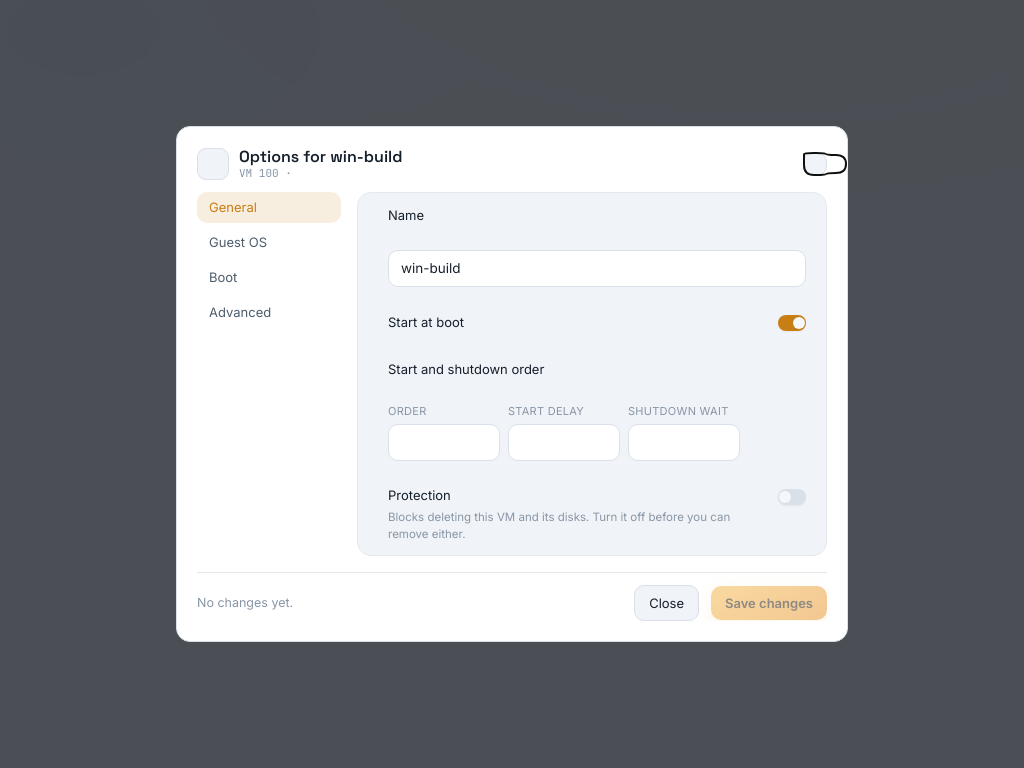
Test: VmOptionsDialog › surfaces the backend detail inline and as a toast
Check: the field labelled "Name" is shown, box [388,250,806,287]
Click the switch named "Protection" in the row of "Protection": point(792, 497) [778,489,806,505]
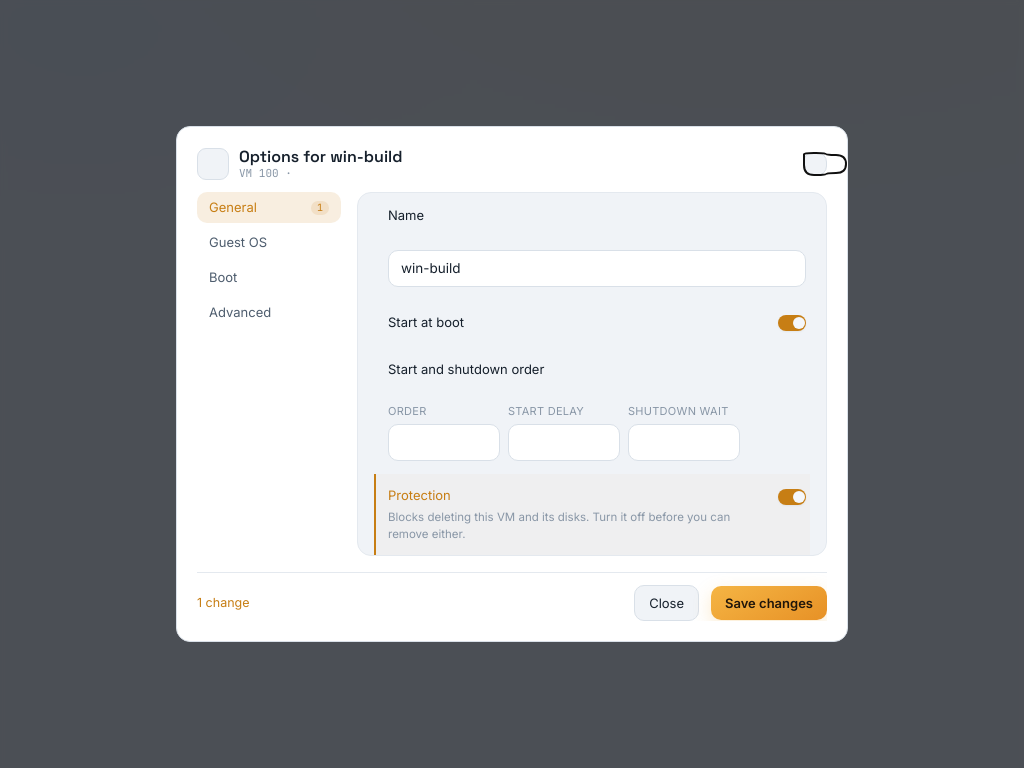
Click the button "Save changes": point(769, 603) [711,586,827,620]
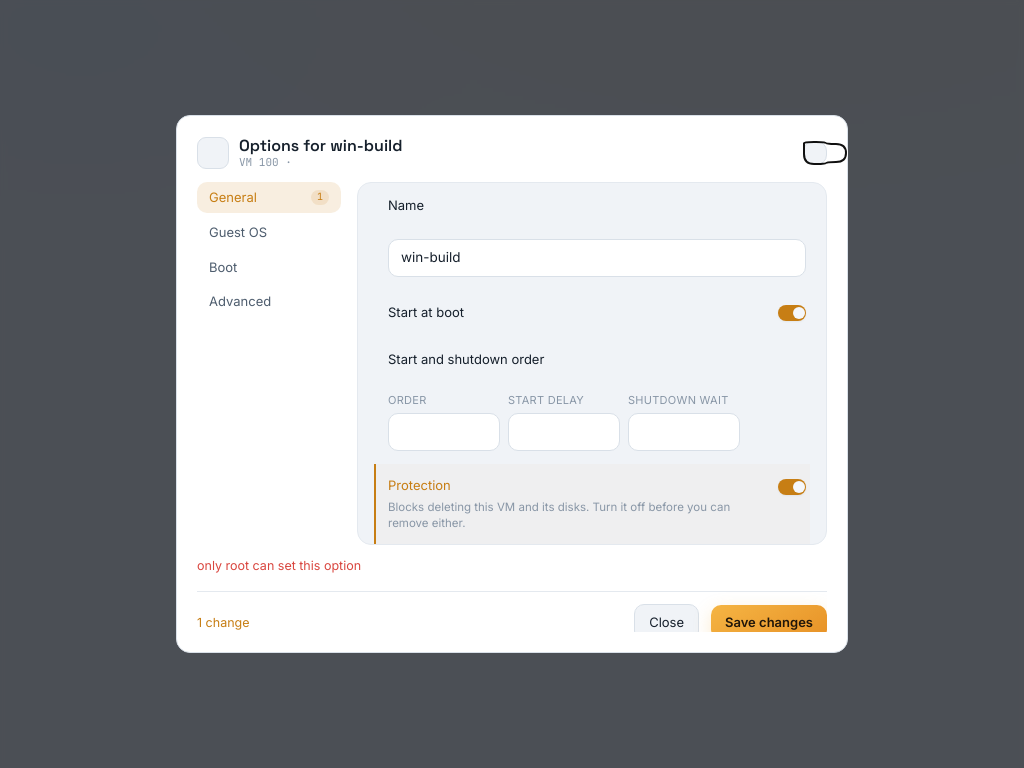
Check: the text "only root can set this option" is shown, box [197,558,361,573]
